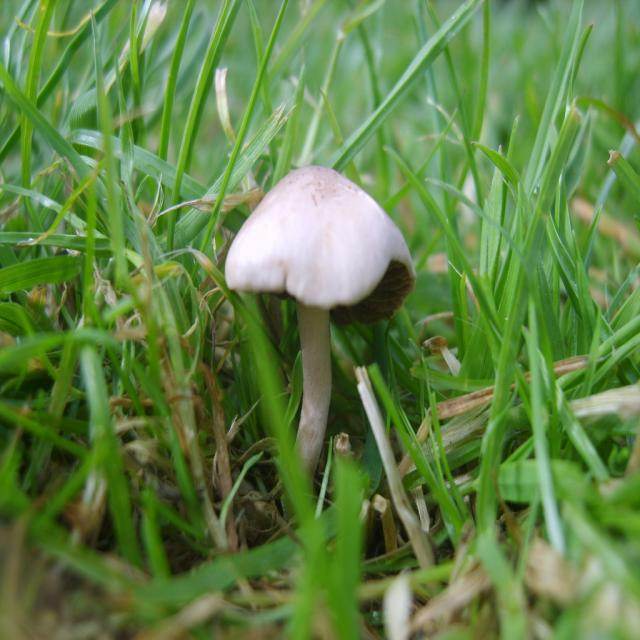Mushroom: (217, 168, 414, 503)
